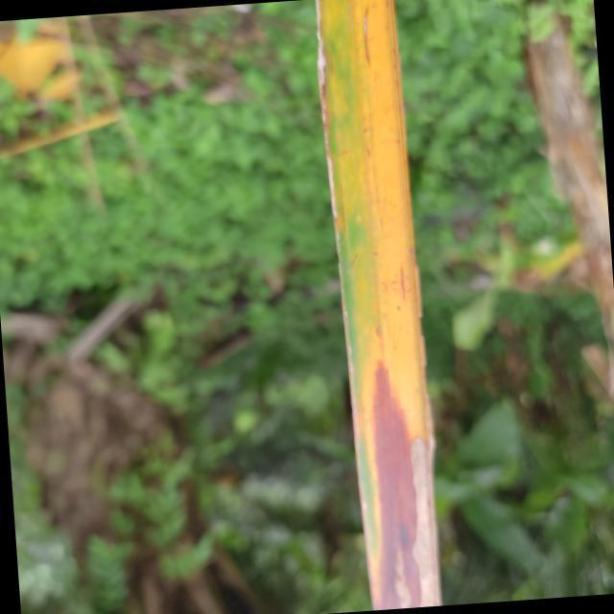Megnesium: (317, 0, 446, 610)
